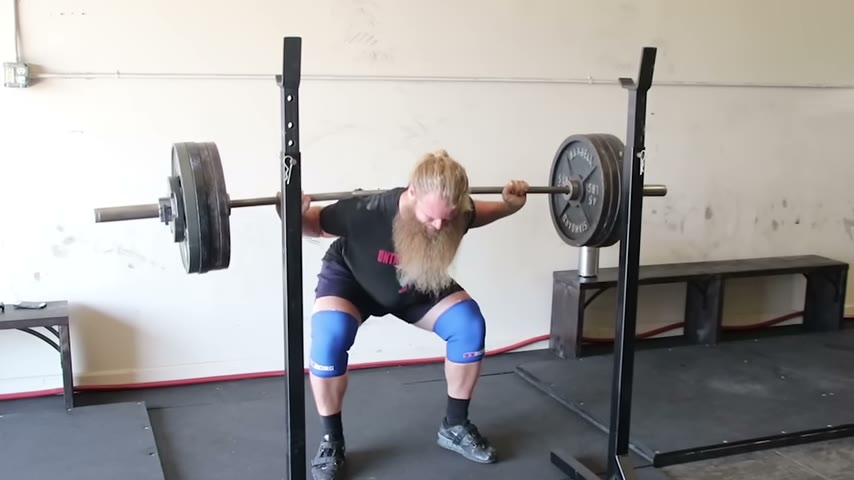barbell_plate_side: (541, 130, 654, 253), (204, 135, 290, 275)
